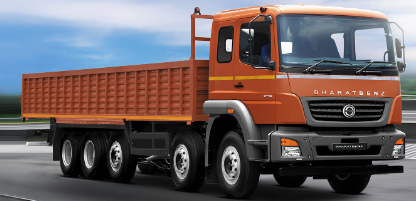truck: (18, 1, 404, 198)
